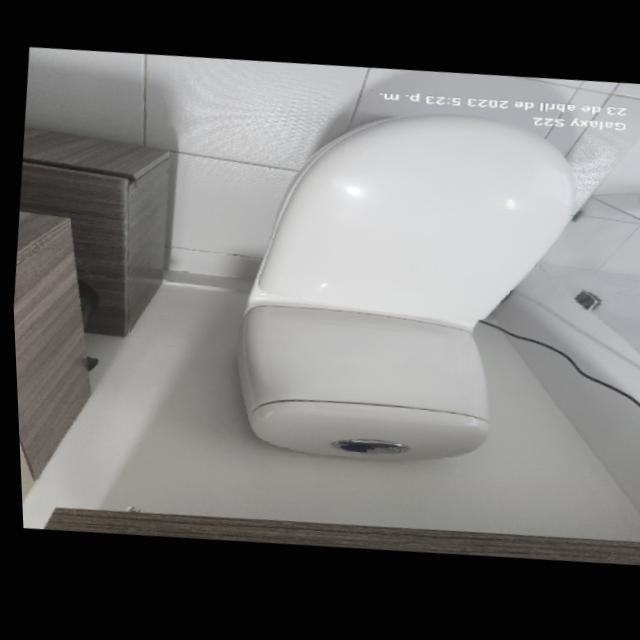toilet: (215, 93, 593, 489)
